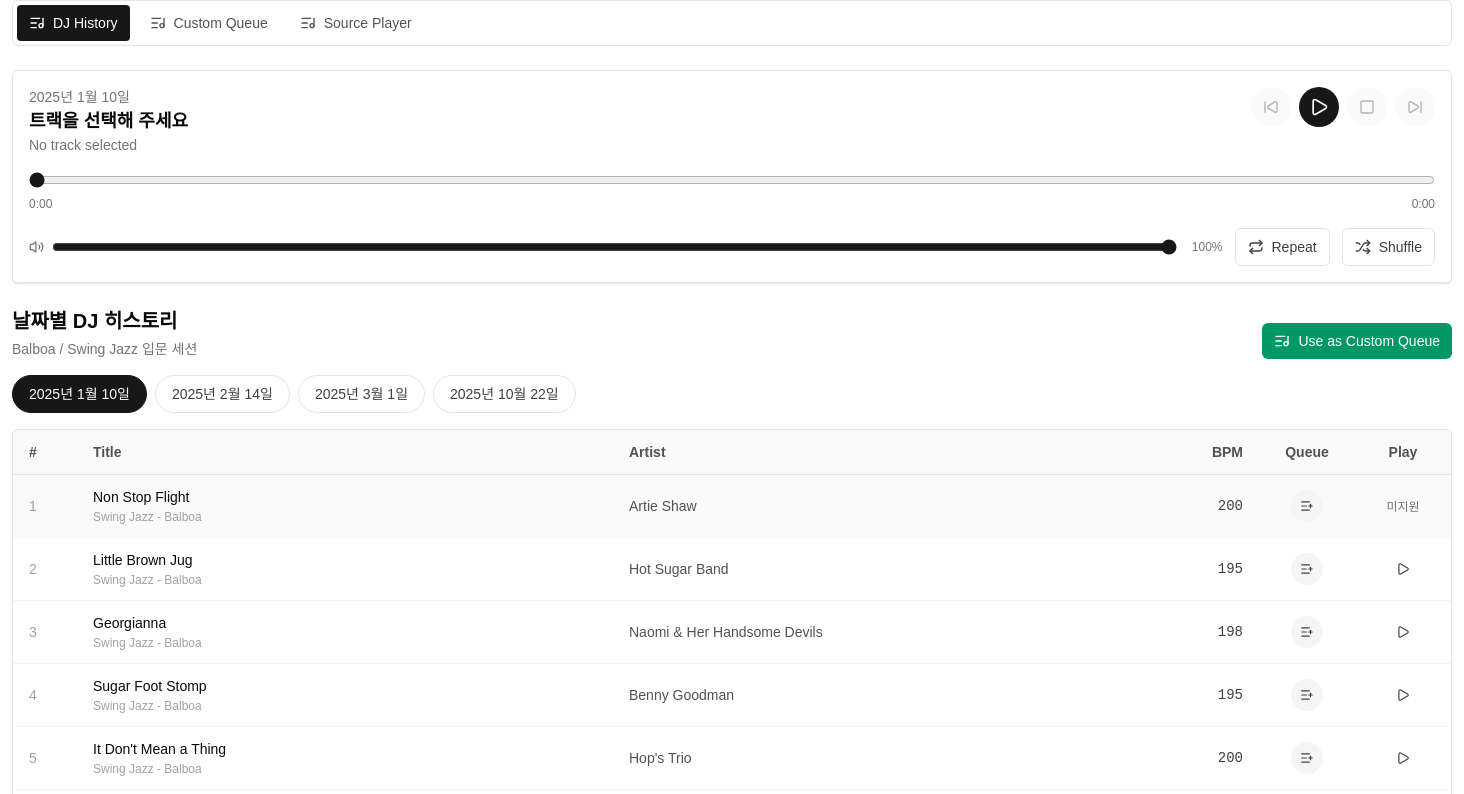
Test: MusicStudio › adds a single DJ history track to the custom queue
The width and height of the screenshot is (1464, 794).
Click the button named "Add Non Stop Flight to Custom Queue": (1307, 506) [1291, 490, 1323, 522]
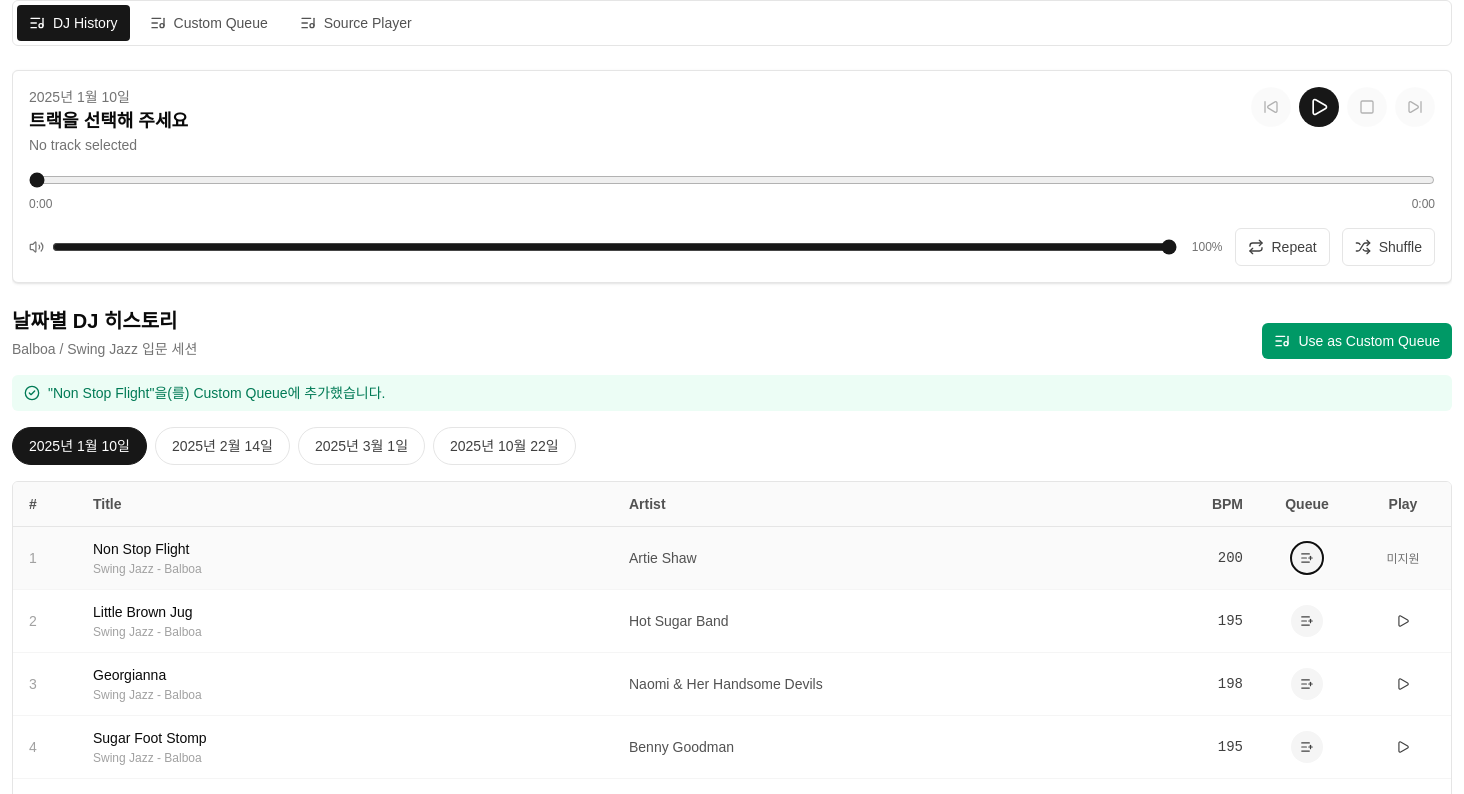
Expected: the text "\"Non Stop Flight\"을(를) Custom Queue에 추가했습니다." is shown, [12, 375, 1452, 411]
Click the button "Custom Queue": (209, 23) [138, 5, 280, 41]
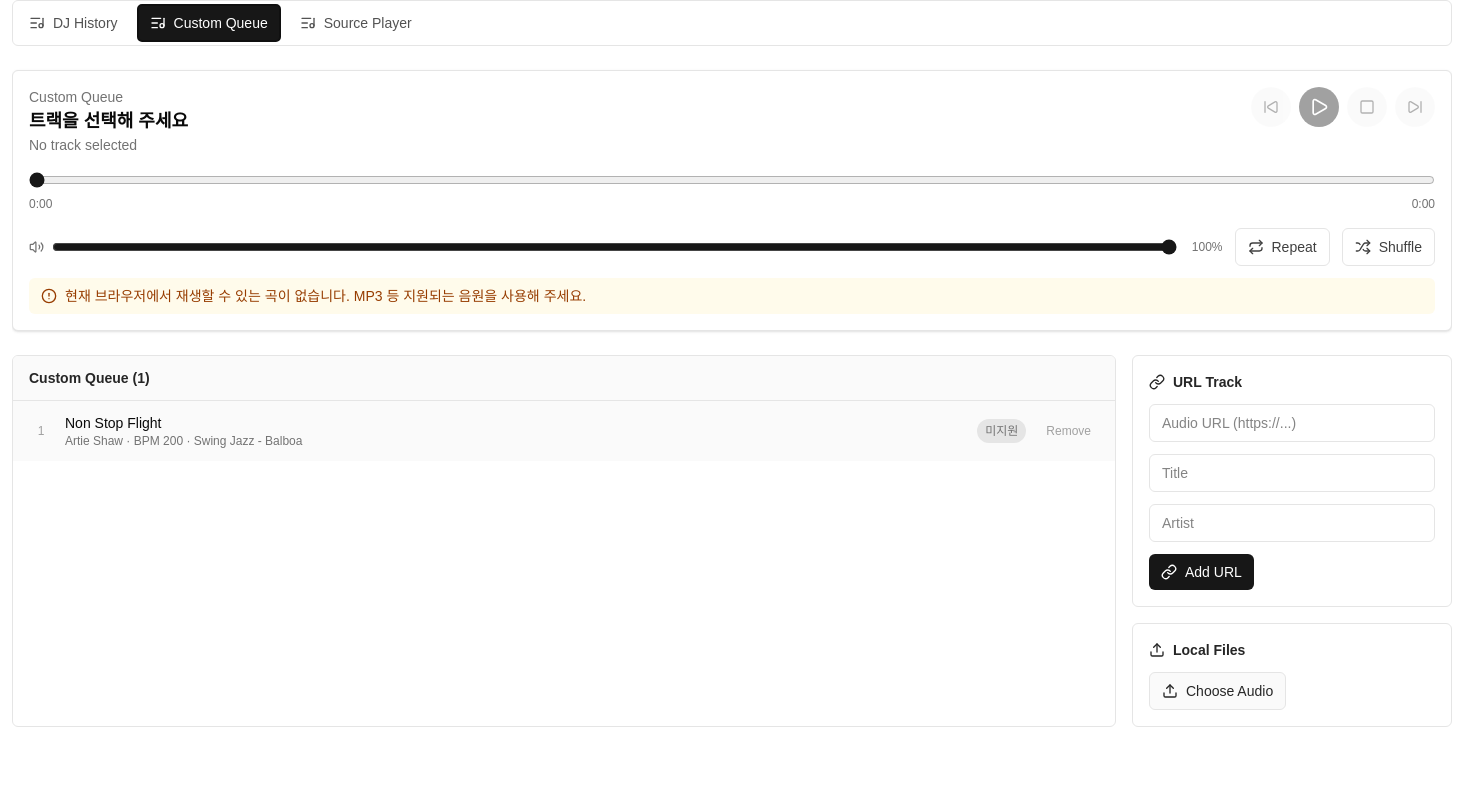
Expected: the heading "Custom Queue (1)" is shown, [29, 370, 150, 386]
